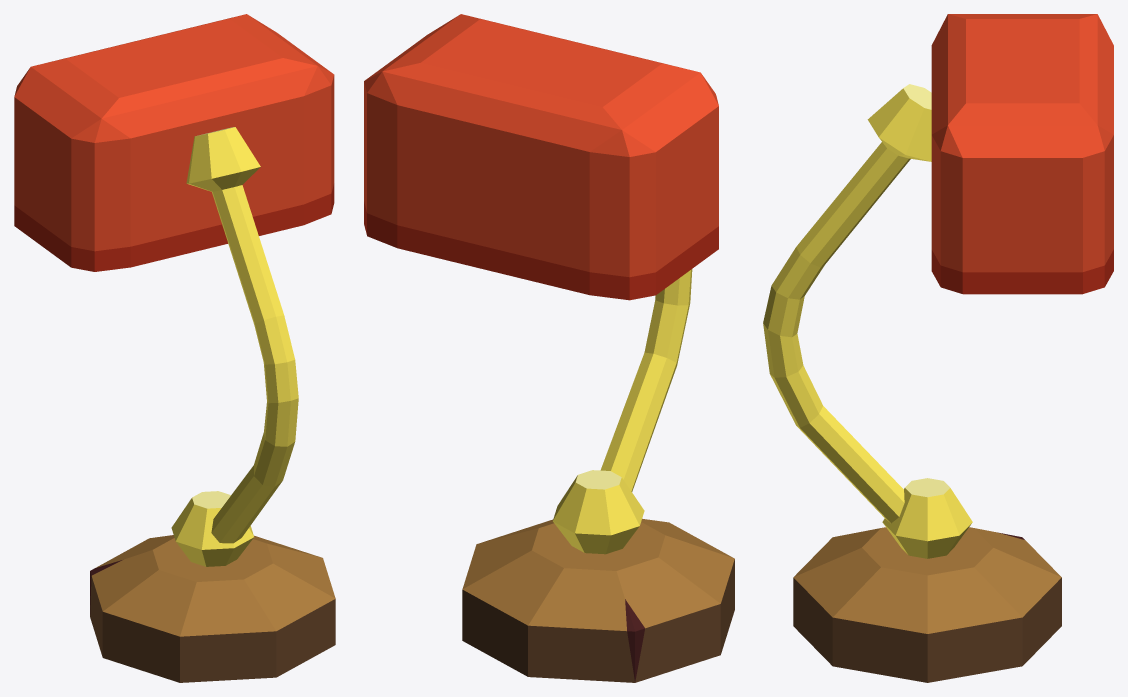
Rendered from Desk Lamp.fbx.
3 renders of one model, left to right at view 1: azimuth 30°, elevation 25°; view 2: azimuth 150°, elevation 25°; view 3: azimuth 270°, elevation 25°, orthographic. The views are drawn at different scales.
Visible parts, largest first — view 1: Desk Lamp; view 2: Desk Lamp; view 3: Desk Lamp.
Part boxes in pixels (x1,y1,x2,y2): Desk Lamp: [14, 14, 335, 682]; Desk Lamp: [364, 14, 734, 682]; Desk Lamp: [763, 14, 1113, 682].
Bounding box in the file's own units: 39.89 × 78.02 × 43.65.
